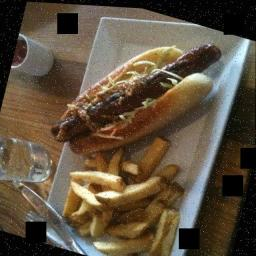hotdog: (56, 82, 126, 158), (125, 54, 179, 109), (172, 28, 218, 88), (46, 116, 61, 140)
